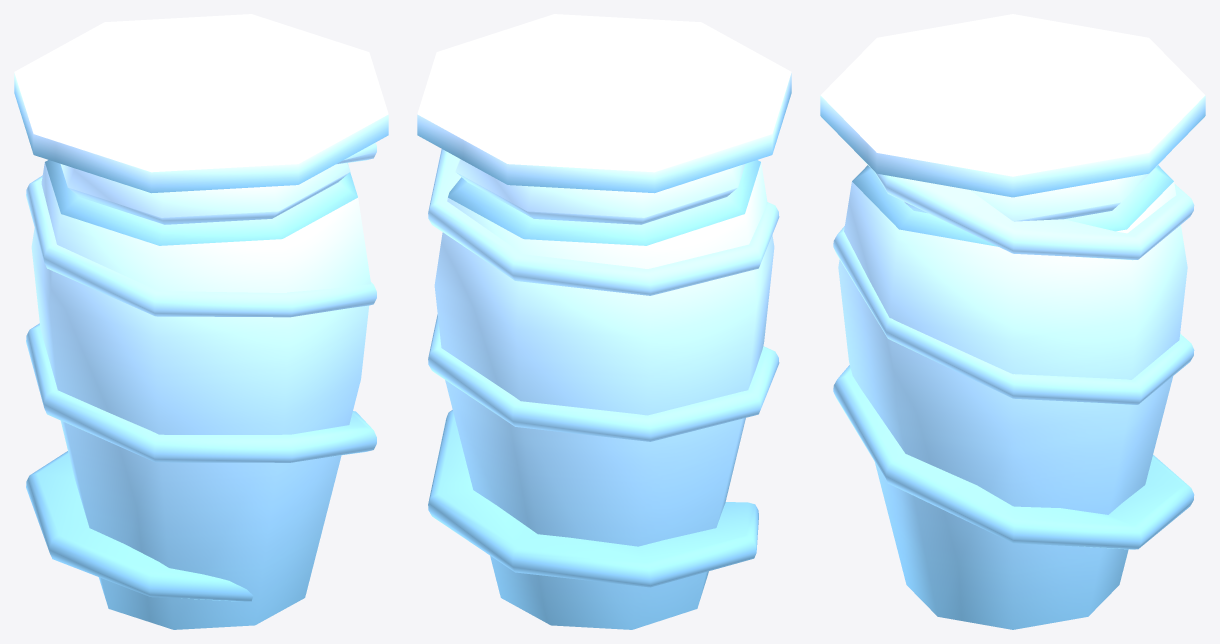
File: steel_grip_039.glb
3 views of the same model, side by side, from view 1: azimuth 30°, elevation 25°; view 2: azimuth 150°, elevation 25°; view 3: azimuth 270°, elevation 25° (orthographic).
Parts seen in each view (by area): view 1: steel_grip_039; view 2: steel_grip_039; view 3: steel_grip_039.
Boxes of the visible parts, <box> form: steel_grip_039: <box>14,14,388,629</box>; steel_grip_039: <box>417,14,791,629</box>; steel_grip_039: <box>820,14,1205,629</box>.
Size of the model in its own units: 2.25 by 3.15 by 2.25.
Materials: 1 (1 with a texture image).
